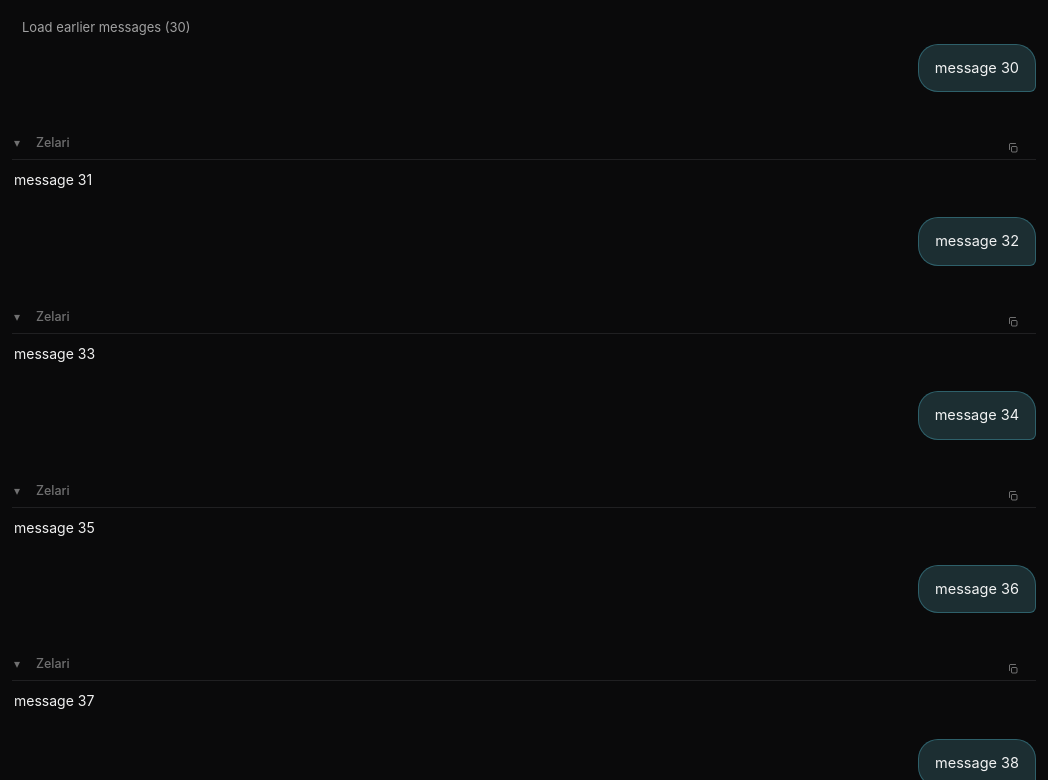
ChatList windowing › loads the remainder in one click when only a window is left
90 messages → 30 hidden behind the control.
Click the button "Load earlier messages (30)" at {"x": 106, "y": 28}, box [12,12,200,44]
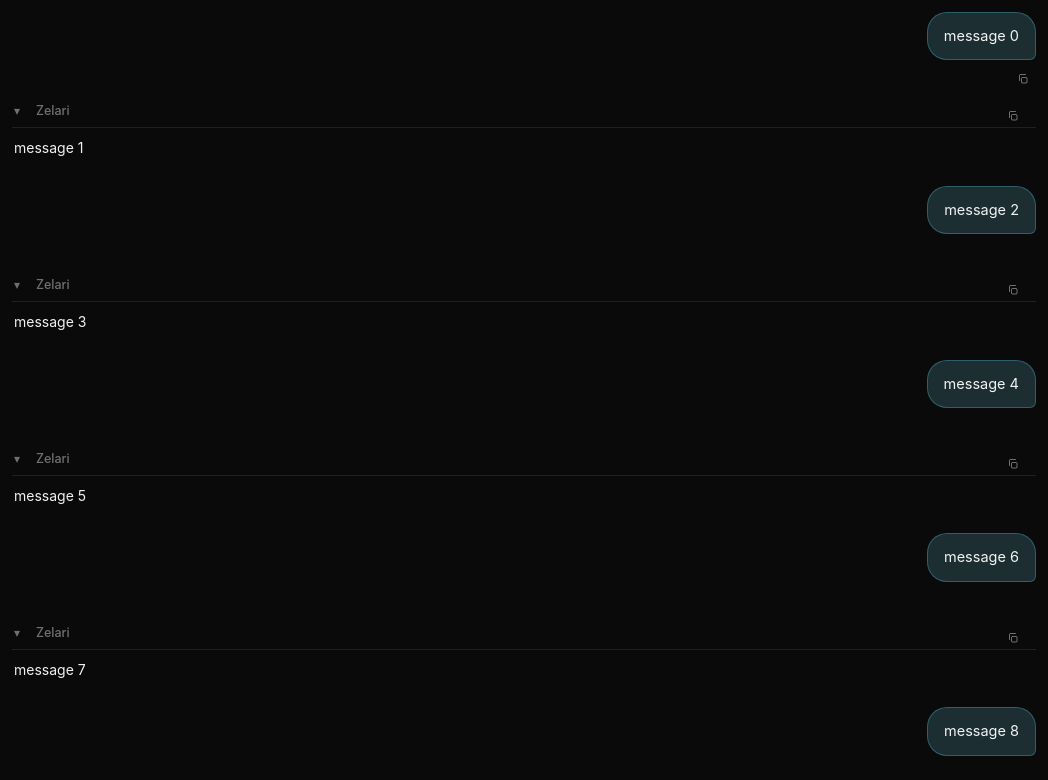
Now the button "Load earlier" is gone
